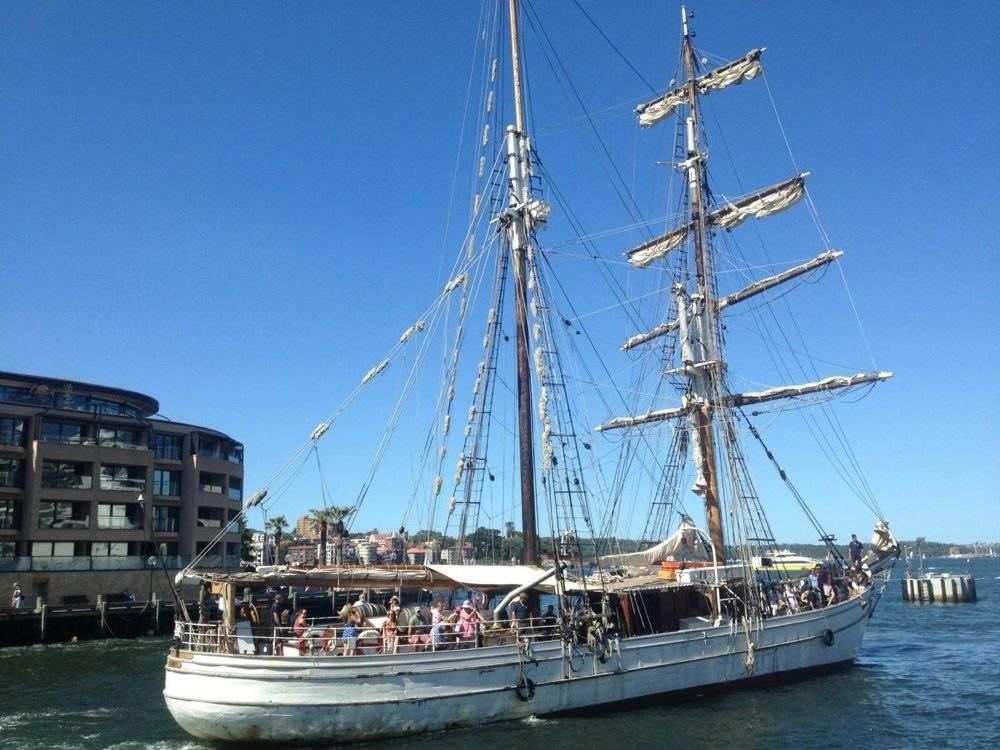fanchuan: (160, 1, 901, 737)
